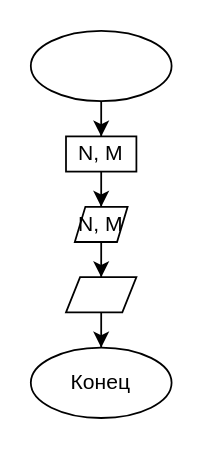
Some shapes in this 202 by 449 pixel diagram are drawn without their labels. The shapes that lost their labels are listed below. From the top down, each one's centre as x and y in pixels, then its label:
At (x=100, y=65): "Начало".
At (x=100, y=293): "N | M".
